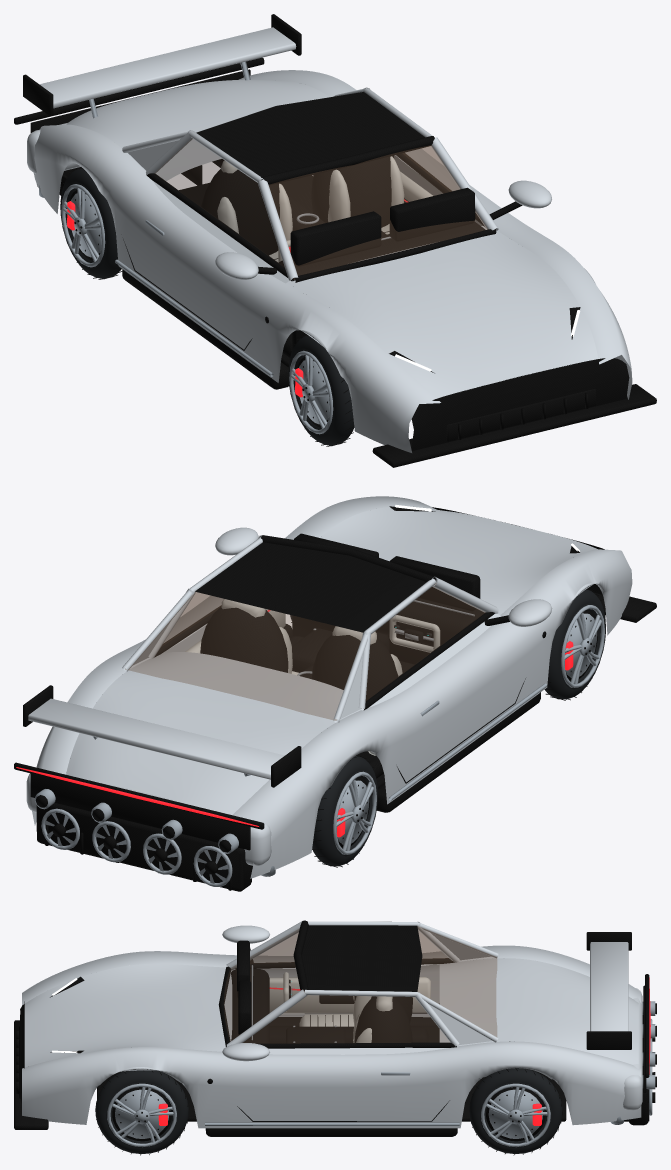
File: DR_Asterion_LOD1.glb
3 views of the same model, one above another, from view 1: azimuth 30°, elevation 25°; view 2: azimuth 150°, elevation 25°; view 3: azimuth 270°, elevation 25° (orthographic). The views are drawn at different scales.
Parts seen in each view (by area): view 1: DR_Asterion_Roadster__DR_PearlAlloy, DR_Asterion_Roadster__DR_CarbonComposite, DR_Asterion_Roadster__DR_CopperSmokedGlass, AeroWing__DR_PearlAlloy, DR_Asterion_Roadster__DR_IvoryMicrofiber, Wheel_FL__DR_PerformanceRubber, Wheel_RL__DR_BrushedTitanium, Wheel_FL__DR_BrushedTitanium, Wheel_RL__DR_PerformanceRubber, AeroWing__DR_CarbonComposite, DR_Asterion_Roadster__DR_BrushedTitanium; view 2: DR_Asterion_Roadster__DR_PearlAlloy, DR_Asterion_Roadster__DR_CarbonComposite, DR_Asterion_Roadster__DR_CopperSmokedGlass, AeroWing__DR_PearlAlloy, DR_Asterion_Roadster__DR_BrushedTitanium, Wheel_RL__DR_PerformanceRubber, Wheel_RL__DR_BrushedTitanium, Wheel_FL__DR_BrushedTitanium, Wheel_FL__DR_PerformanceRubber, DR_Asterion_Roadster__DR_IvoryMicrofiber, AeroWing__DR_CarbonComposite, SteeringWheel__DR_IvoryMicrofiber (+1 smaller); view 3: DR_Asterion_Roadster__DR_PearlAlloy, DR_Asterion_Roadster__DR_CarbonComposite, DR_Asterion_Roadster__DR_CopperSmokedGlass, AeroWing__DR_PearlAlloy, Wheel_RR__DR_PerformanceRubber, Wheel_FR__DR_PerformanceRubber, DR_Asterion_Roadster__DR_IvoryMicrofiber, Wheel_FR__DR_BrushedTitanium, Wheel_RR__DR_BrushedTitanium, DR_Asterion_Roadster__DR_BrushedTitanium, AeroWing__DR_CarbonComposite, Wheel_RR__DR_CarbonComposite (+1 smaller).
Boxes of the visible parts, bbox=[...] form: DR_Asterion_Roadster__DR_PearlAlloy: bbox=[27, 70, 632, 452]; DR_Asterion_Roadster__DR_CarbonComposite: bbox=[14, 57, 656, 467]; DR_Asterion_Roadster__DR_CopperSmokedGlass: bbox=[154, 138, 487, 279]; AeroWing__DR_PearlAlloy: bbox=[39, 27, 296, 108]; DR_Asterion_Roadster__DR_IvoryMicrofiber: bbox=[217, 156, 432, 261]; Wheel_FL__DR_PerformanceRubber: bbox=[288, 335, 354, 445]; Wheel_RL__DR_BrushedTitanium: bbox=[61, 184, 105, 267]; Wheel_FL__DR_BrushedTitanium: bbox=[289, 350, 333, 434]; Wheel_RL__DR_PerformanceRubber: bbox=[60, 167, 121, 278]; AeroWing__DR_CarbonComposite: bbox=[23, 14, 301, 116]; DR_Asterion_Roadster__DR_BrushedTitanium: bbox=[39, 185, 390, 376]; DR_Asterion_Roadster__DR_PearlAlloy: bbox=[26, 496, 632, 878]; DR_Asterion_Roadster__DR_CarbonComposite: bbox=[14, 506, 656, 891]; DR_Asterion_Roadster__DR_CopperSmokedGlass: bbox=[125, 583, 485, 720]; AeroWing__DR_PearlAlloy: bbox=[28, 698, 284, 779]; DR_Asterion_Roadster__DR_BrushedTitanium: bbox=[35, 600, 547, 886]; Wheel_RL__DR_PerformanceRubber: bbox=[312, 756, 377, 866]; Wheel_RL__DR_BrushedTitanium: bbox=[333, 771, 376, 854]; Wheel_FL__DR_BrushedTitanium: bbox=[561, 605, 604, 687]; Wheel_FL__DR_PerformanceRubber: bbox=[545, 589, 605, 699]; DR_Asterion_Roadster__DR_IvoryMicrofiber: bbox=[185, 599, 402, 755]; AeroWing__DR_CarbonComposite: bbox=[23, 685, 301, 787]; SteeringWheel__DR_IvoryMicrofiber: bbox=[389, 615, 440, 652]; DR_Asterion_Roadster__DR_PearlAlloy: bbox=[22, 920, 642, 1128]; DR_Asterion_Roadster__DR_CarbonComposite: bbox=[14, 920, 656, 1136]; DR_Asterion_Roadster__DR_CopperSmokedGlass: bbox=[224, 926, 496, 1043]; AeroWing__DR_PearlAlloy: bbox=[590, 942, 628, 1031]; Wheel_RR__DR_PerformanceRubber: bbox=[469, 1068, 562, 1153]; Wheel_FR__DR_PerformanceRubber: bbox=[95, 1070, 188, 1153]; DR_Asterion_Roadster__DR_IvoryMicrofiber: bbox=[269, 977, 430, 1042]; Wheel_FR__DR_BrushedTitanium: bbox=[107, 1083, 176, 1147]; Wheel_RR__DR_BrushedTitanium: bbox=[481, 1083, 550, 1147]; DR_Asterion_Roadster__DR_BrushedTitanium: bbox=[205, 965, 655, 1125]; AeroWing__DR_CarbonComposite: bbox=[586, 932, 631, 1049]; Wheel_RR__DR_CarbonComposite: bbox=[469, 1068, 562, 1155].
Bounding box in the file's own units: 2.31 × 1.26 × 4.82.
9 materials, 1 textured.
